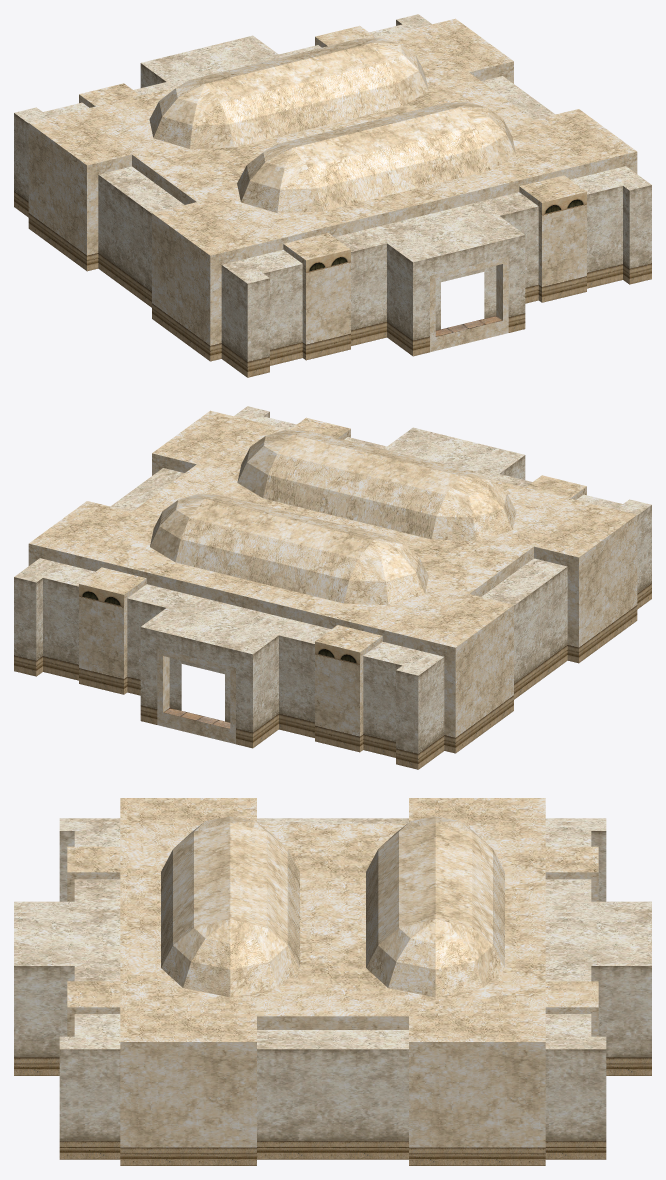
Rendered from mun_tato_hospital_s02_r0_mesh_l1.fbx.
The picture shows the model from 3 angles, top to bottom: view 1: azimuth 30°, elevation 25°; view 2: azimuth 150°, elevation 25°; view 3: azimuth 270°, elevation 25°; orthographic projection. The views are drawn at different scales.
Visible parts, largest first — view 1: mesh_node; view 2: mesh_node; view 3: mesh_node.
Boxes of the visible parts, <box> form: mesh_node: <box>14,14,651,377</box>; mesh_node: <box>14,406,651,769</box>; mesh_node: <box>14,798,651,1165</box>.
Bounding box in the file's own units: 38 × 12.56 × 42.
